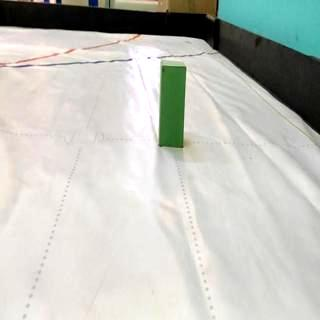greenbox: (159, 59, 187, 149)
